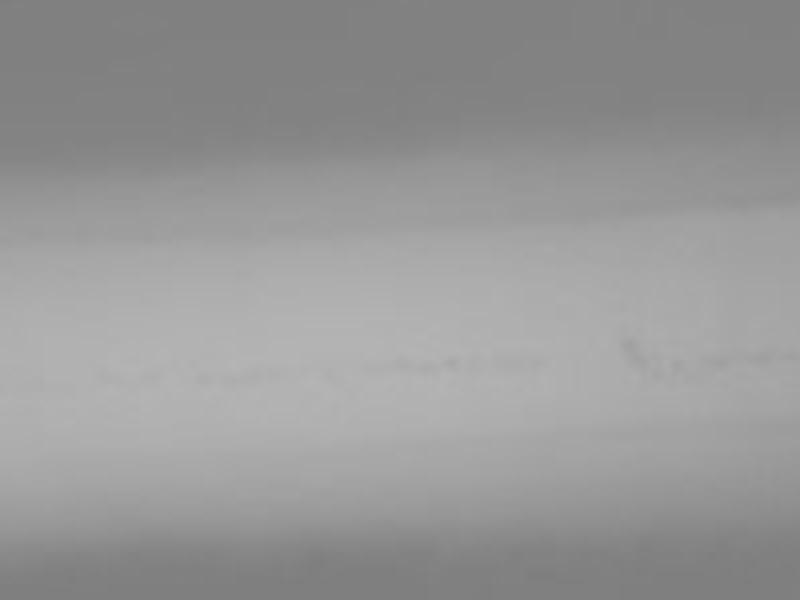defect: (413, 358, 433, 378), (747, 351, 767, 371), (442, 353, 460, 371), (391, 354, 409, 372), (195, 368, 213, 386), (617, 334, 635, 352), (629, 350, 647, 368), (704, 355, 722, 373), (525, 354, 542, 371), (96, 366, 113, 383), (140, 365, 157, 382), (644, 365, 660, 381), (220, 366, 236, 382), (668, 356, 682, 370)
